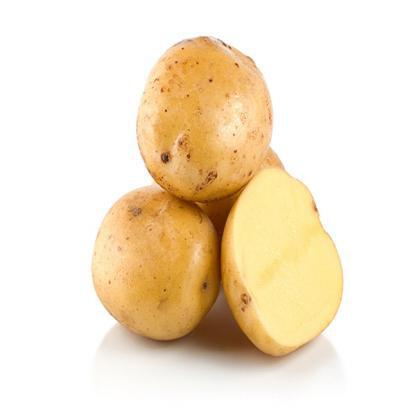potato: (223, 155, 350, 356), (132, 29, 280, 199), (89, 176, 218, 343)
